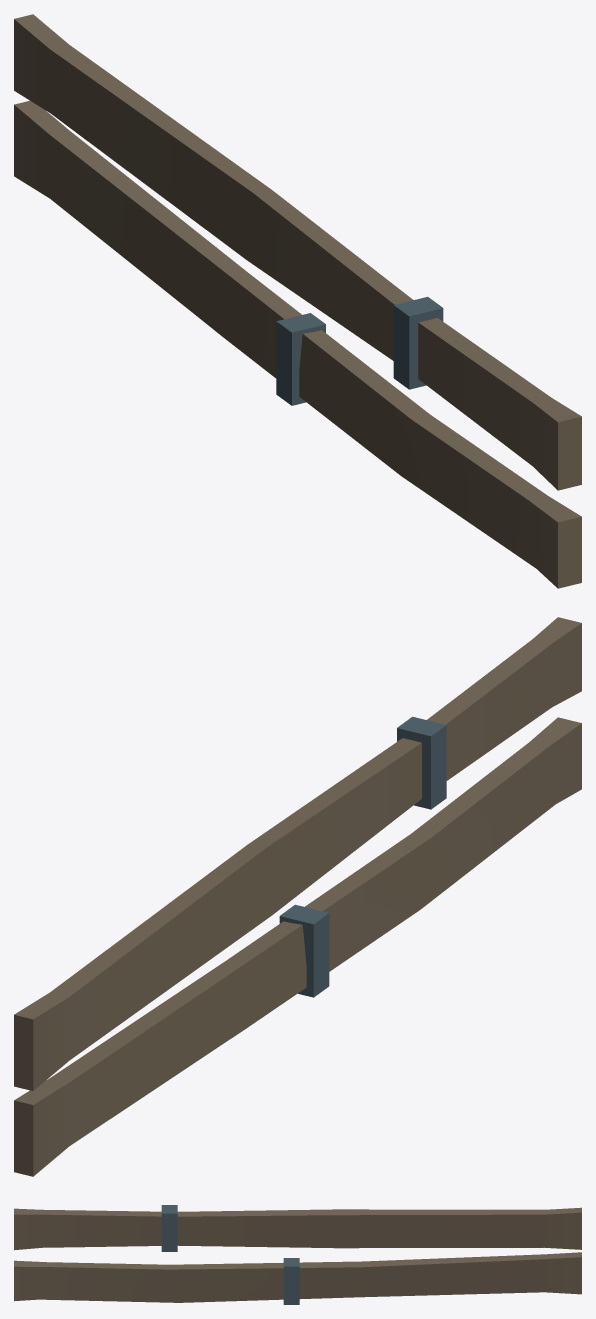
The model's file is Fence_01.fbx.
3 renders of one model, top to bottom at view 1: azimuth 30°, elevation 25°; view 2: azimuth 150°, elevation 25°; view 3: azimuth 270°, elevation 25°, orthographic. The views are drawn at different scales.
Visible parts, largest first — view 1: Fence_01; view 2: Fence_01; view 3: Fence_01.
Boxes of the visible parts, x1=… form: Fence_01: x1=14, y1=14, x2=581, y2=588; Fence_01: x1=14, y1=617, x2=581, y2=1176; Fence_01: x1=14, y1=1205, x2=581, y2=1304.
Bounding box in the file's own units: 17.91 × 87.69 × 495.
